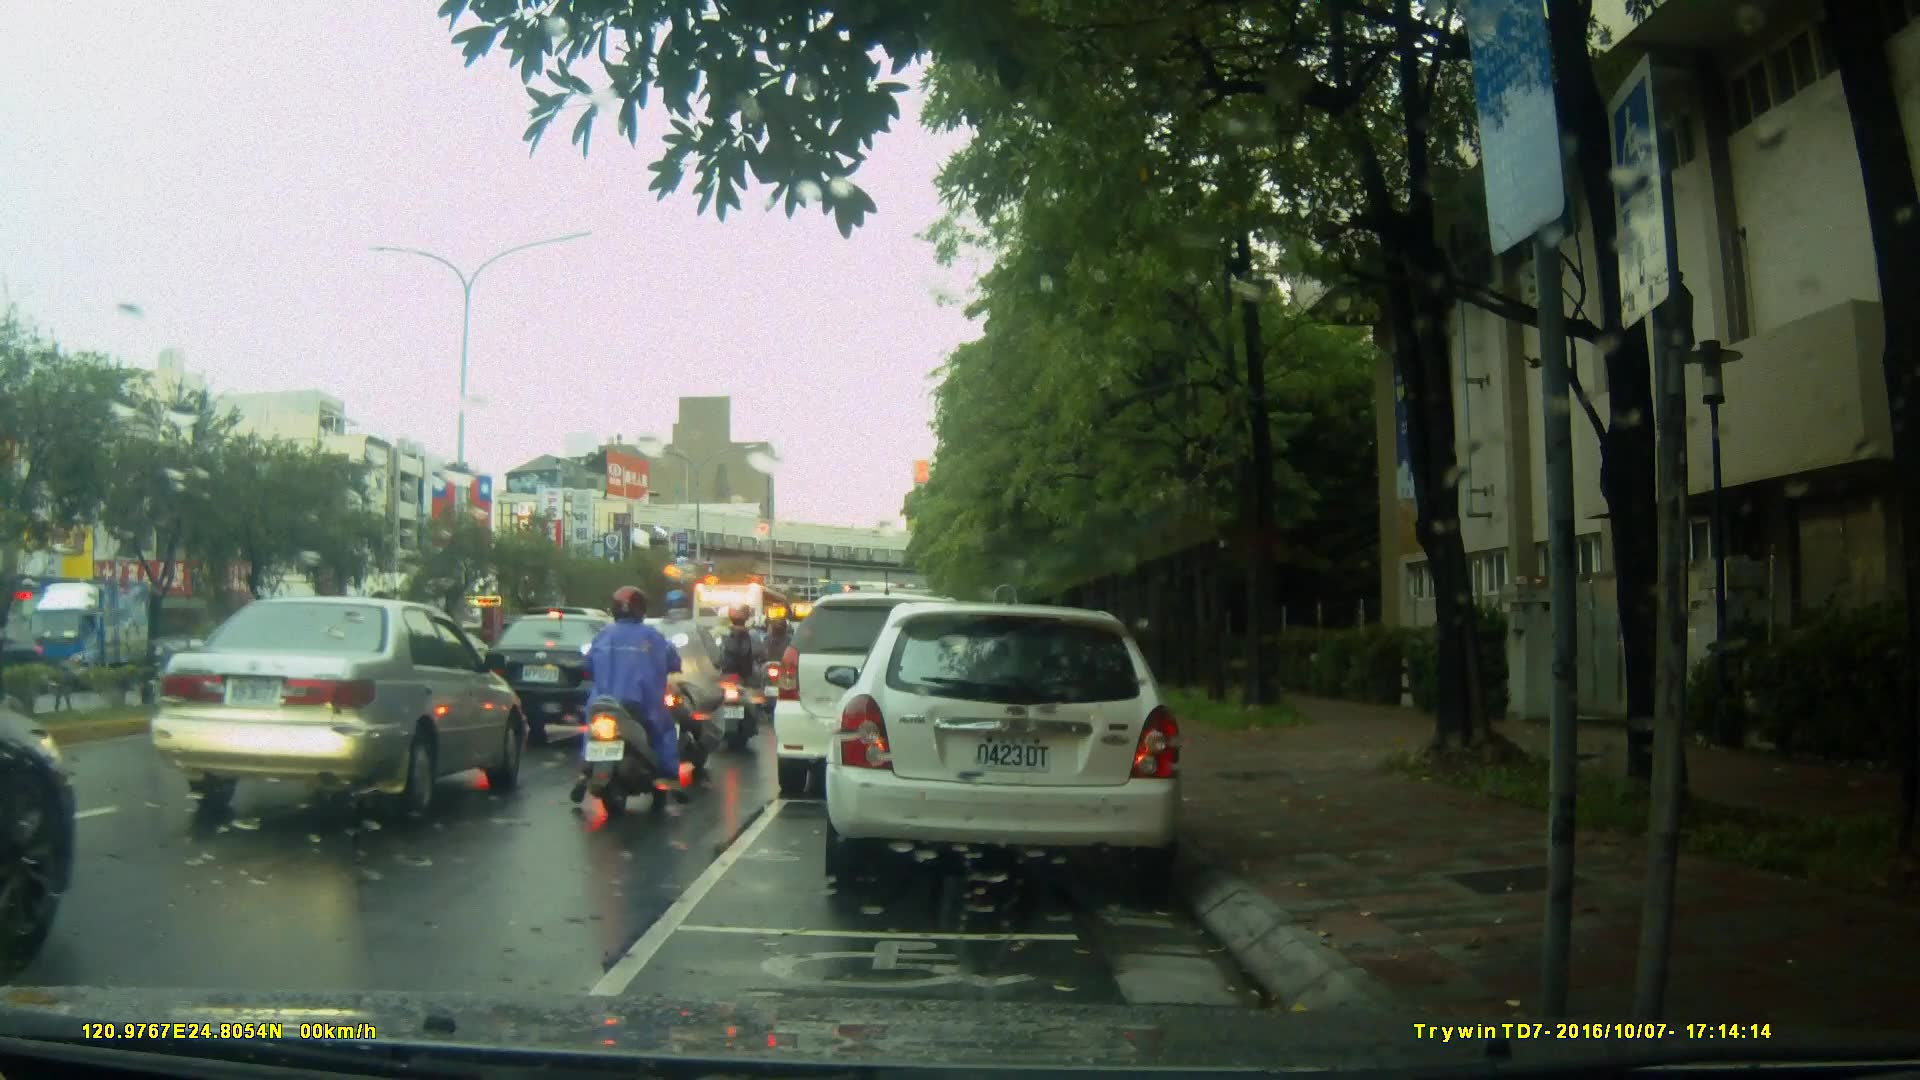rider: (573, 583, 680, 817), (666, 588, 743, 771), (706, 602, 763, 734), (758, 612, 795, 712)
vehicle: (831, 592, 1196, 897), (146, 595, 537, 820), (769, 592, 999, 800), (475, 610, 653, 749), (687, 581, 804, 706), (22, 576, 156, 679)
